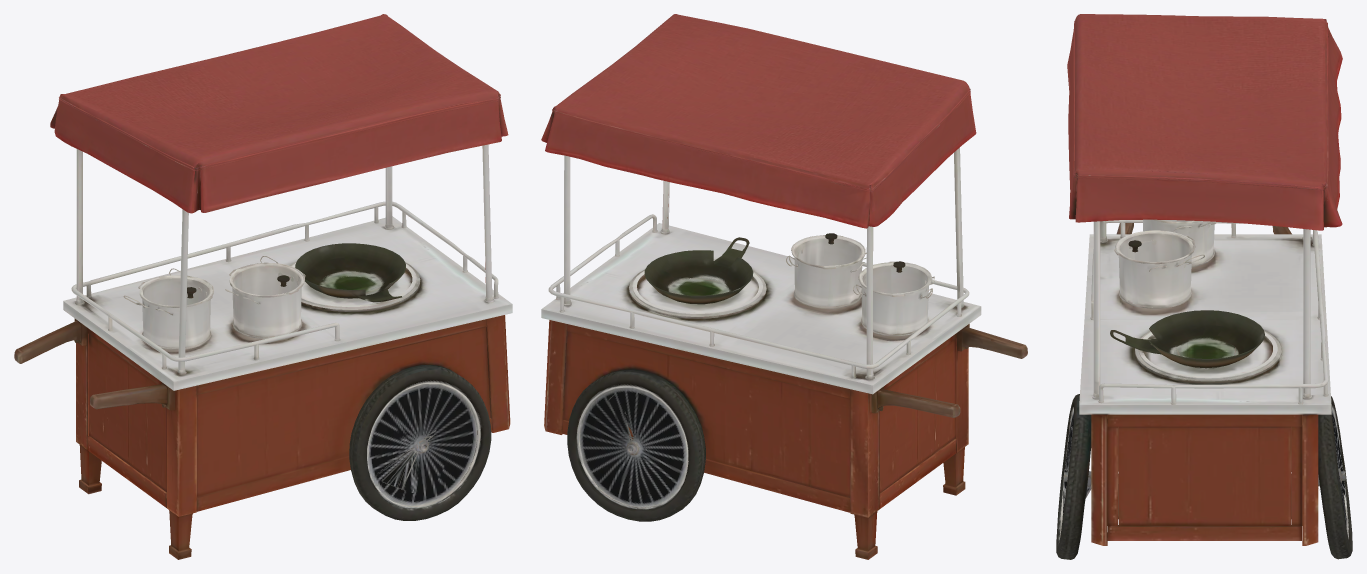
The model's file is cart.glb.
The picture shows the model from 3 angles, left to right: view 1: azimuth 30°, elevation 25°; view 2: azimuth 150°, elevation 25°; view 3: azimuth 270°, elevation 25°; orthographic projection. The views are drawn at different scales.
Parts seen in each view (by area): view 1: cart; view 2: cart; view 3: cart.
Part boxes in pixels (box(x1,y1,x2,y2)): cart: box(14, 14, 512, 559); cart: box(541, 14, 1027, 559); cart: box(1056, 14, 1352, 559).
Bounding box in the file's own units: 2.21 × 2.1 × 1.32.
Materials: 1 (1 with a texture image).
